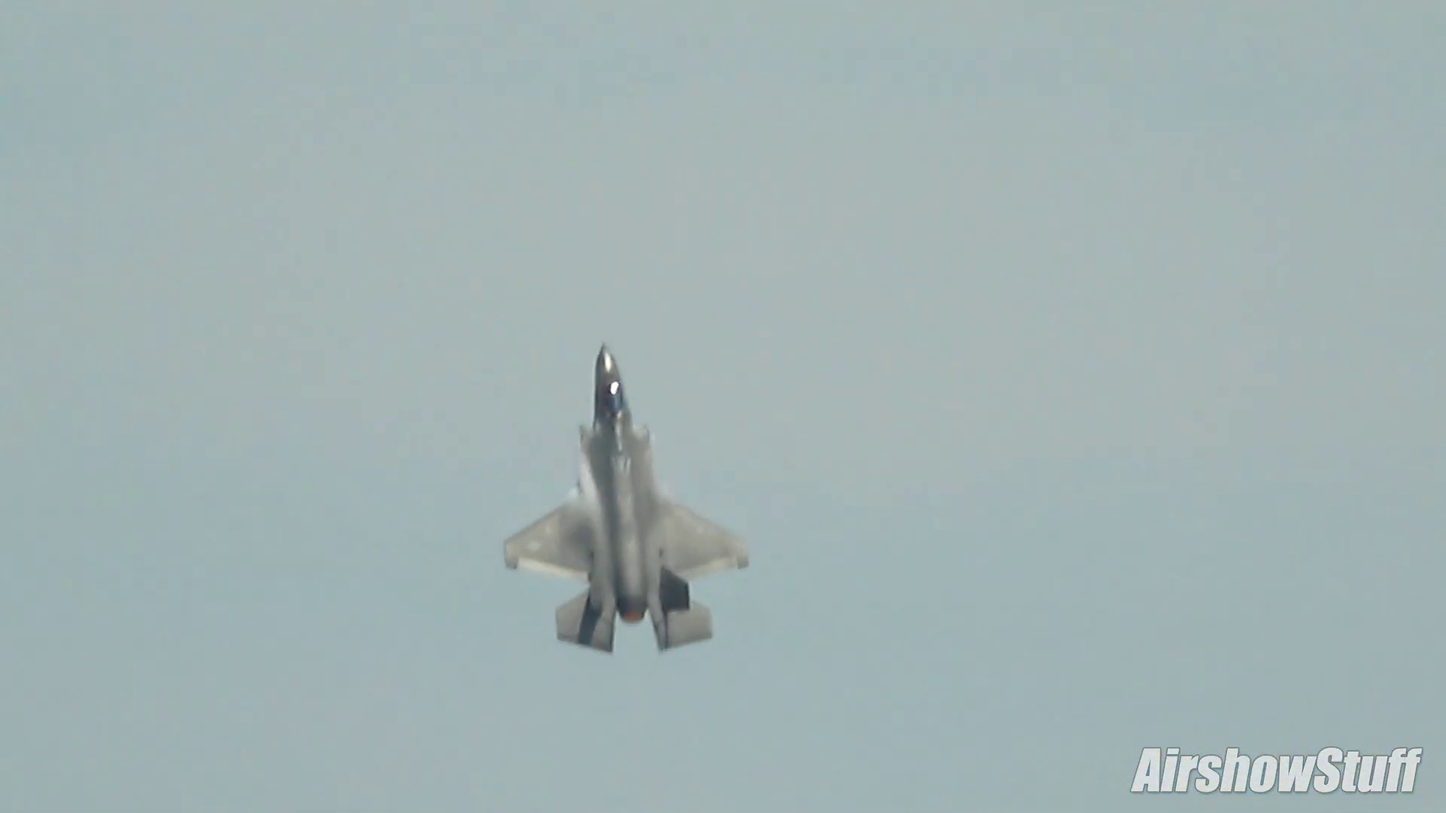F35: (501, 337, 756, 655)
